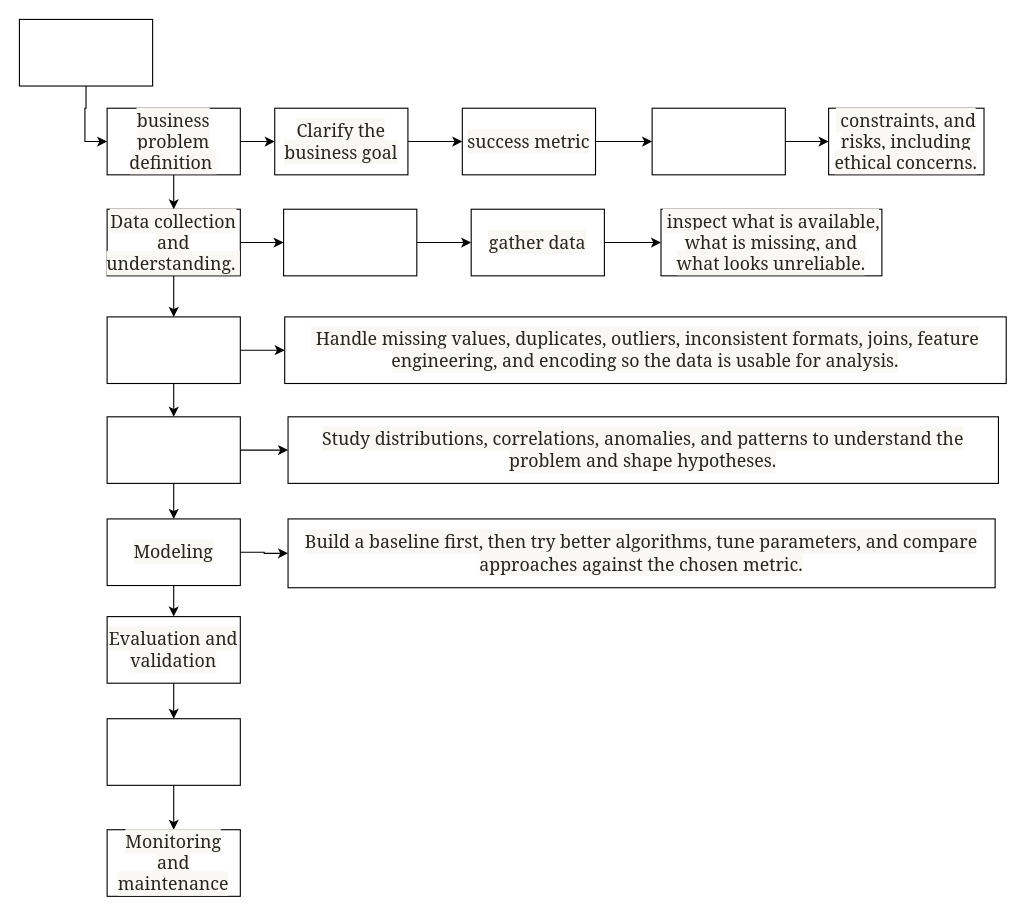
The diagram is 1026 pixels wide and 916 high, and some of its shapes have lost their labels. Here are the shapes that lost their labels. From the top down, the centre of each, then its label:
(85,52): Data science project lifecycle
(718,141): stakeholders
(349,242): Identify sources
(173,350): Data cleaning and preparation
(173,449): Exploratory data analysis (EDA)
(173,751): Deployment
